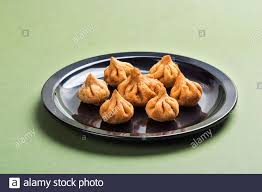modak: (173, 75, 215, 113), (123, 69, 166, 102), (145, 88, 178, 123), (100, 91, 134, 122), (99, 53, 132, 82), (77, 74, 107, 100), (151, 55, 181, 81)
